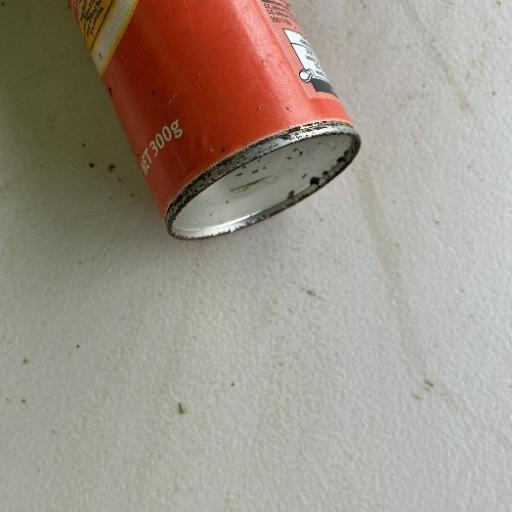Metal: (64, 0, 362, 242)
